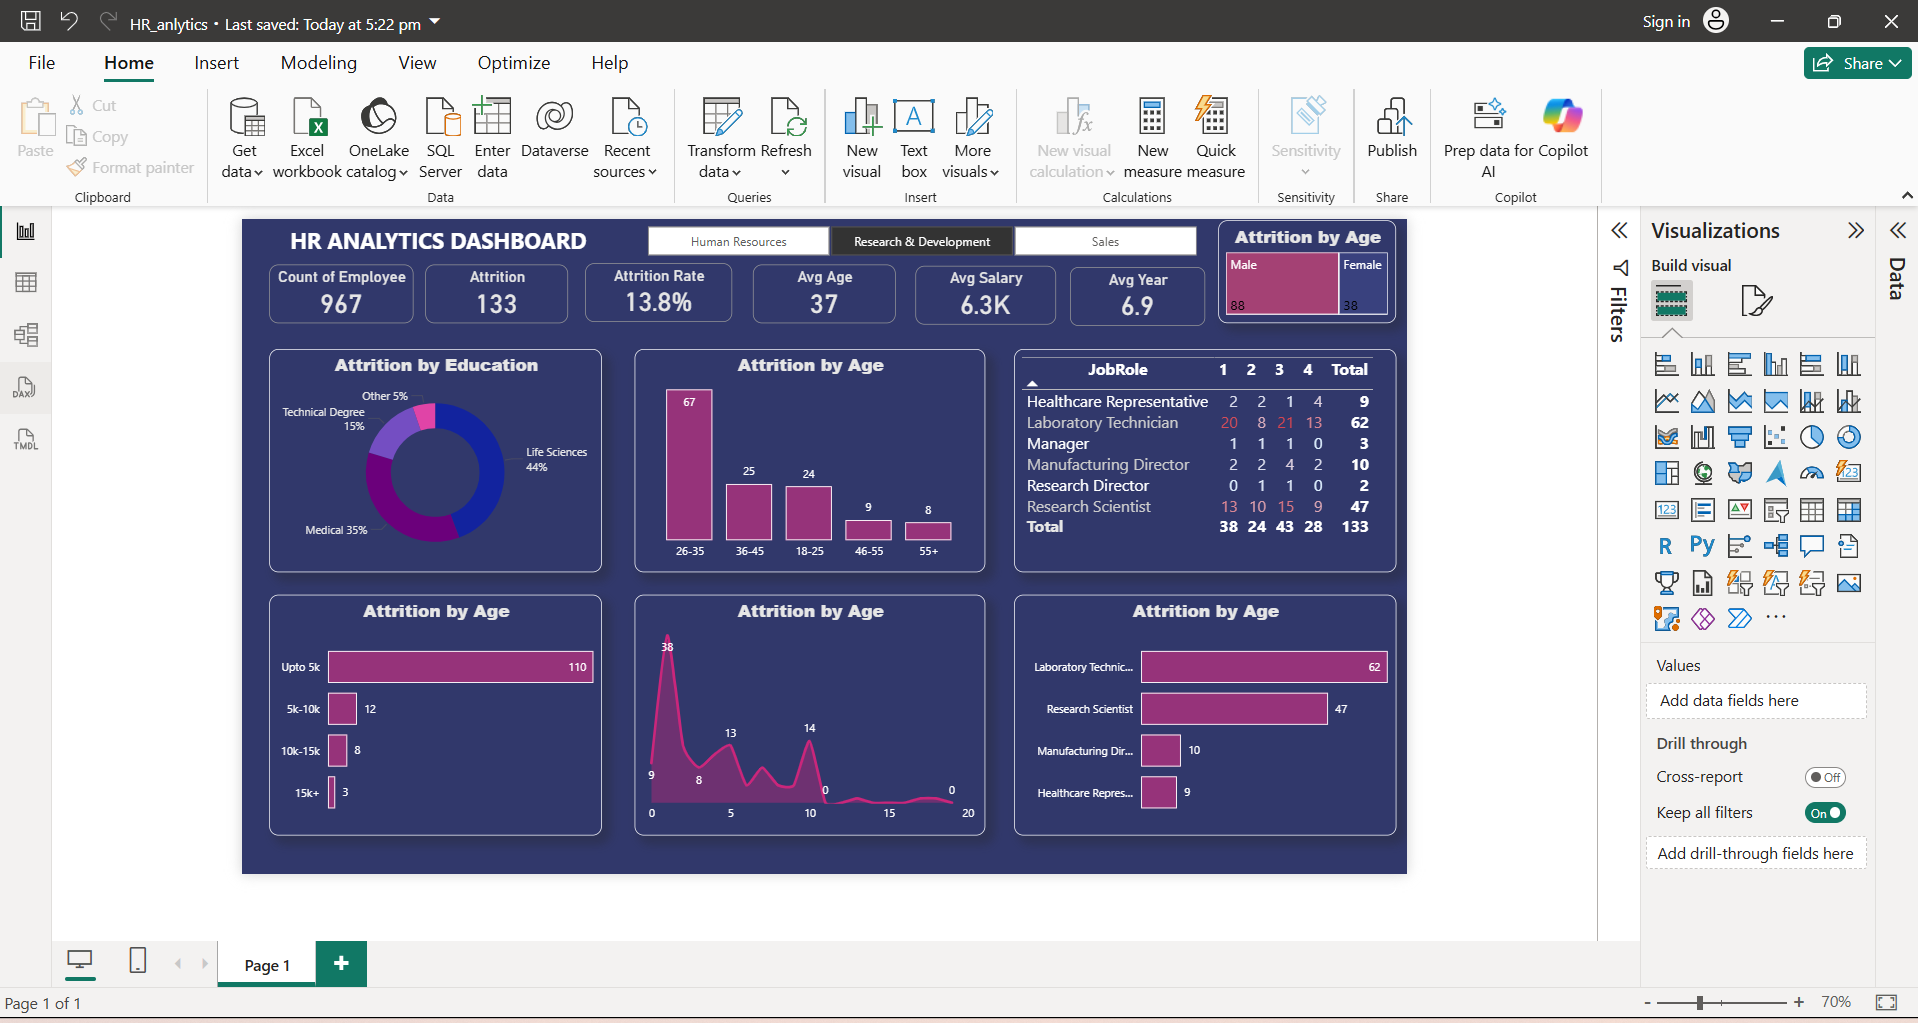

What the dashboard file says about the page in this screenshot:
{"tool":"powerbi","page":{"name":"Page 1","canvas":[1280,720],"ordinal":0},"visuals":[{"type":"card","title":"Count of Employee","fields":{"Values":["CountNonNull(HR_Analytics.EmpID)"]},"box":[30,50,158.6,64.3],"z":0},{"type":"card","title":"Attrition","fields":{"Values":["Sum(HR_Analytics.Attrition_Count)"]},"box":[201.4,50,157.1,64.3],"z":1000},{"type":"card","title":"Attrition Rate","fields":{"Values":["HR_Analytics.AttritionRate"]},"box":[377.1,48.6,161.4,64.3],"z":2000},{"type":"card","title":"Avg Age","fields":{"Values":["Avg(HR_Analytics.Age)"]},"box":[561.4,50,157.1,64.3],"z":3000},{"type":"card","title":"Avg Salary","fields":{"Values":["Avg(HR_Analytics.MonthlyIncome)"]},"box":[740,51.4,154.3,64.3],"z":4000},{"type":"card","title":"Avg Year","fields":{"Values":["Avg(HR_Analytics.YearsAtCompany)"]},"box":[910,52.9,148.6,64.3],"z":5000},{"type":"donutChart","title":"Attrition by Education","fields":{"Category":["HR_Analytics.EducationField"],"Y":["Sum(HR_Analytics.Attrition_Count)"]},"box":[30,142.9,365.7,245.7],"z":6000},{"type":"columnChart","title":"Attrition by Age","fields":{"Category":["HR_Analytics.AgeGroup"],"Y":["Sum(HR_Analytics.Attrition_Count)"]},"box":[431.4,142.9,385.7,245.7],"z":7000},{"type":"pivotTable","fields":{"Rows":["HR_Analytics.JobRole"],"Columns":["HR_Analytics.JobSatisfaction"],"Values":["Sum(HR_Analytics.Attrition_Count)"]},"box":[848.6,142.9,420,245.7],"z":8000},{"type":"clusteredBarChart","title":"Attrition by Age","fields":{"Category":["HR_Analytics.SalarySlab"],"Y":["Sum(HR_Analytics.Attrition_Count)"]},"box":[30,412.9,365.7,264.3],"z":9000},{"type":"clusteredBarChart","title":"Attrition by Age","fields":{"Category":["HR_Analytics.JobRole"],"Y":["Sum(HR_Analytics.Attrition_Count)"]},"box":[848.6,412.9,420,264.3],"z":10000},{"type":"areaChart","title":"Attrition by Age","fields":{"Category":["HR_Analytics.YearsAtCompany"],"Y":["Sum(HR_Analytics.Attrition_Count)"]},"box":[431.4,412.9,385.7,264.3],"z":11000},{"type":"treemap","title":"Attrition by Age","fields":{"Group":["HR_Analytics.Gender"],"Values":["Sum(HR_Analytics.Attrition_Count)"]},"box":[1072.9,1.4,195.7,112.9],"z":12000},{"type":"slicer","fields":{"Values":["HR_Analytics.Department"]},"box":[420,1.4,652.9,45.7],"z":13000},{"type":"textbox","box":[0,1.4,431.4,44.3],"z":14000}]}

Visuals, with their boxes on the page's 1280x720 design canvas (x1, y1, x2, y2). These are canvas units, not pixel positions in the 1918x1023 screenshot, which may show the page scaled, cropped or inside an application window:
"Count of Employee" card: [left=30, top=50, right=189, bottom=114]
"Attrition" card: [left=201, top=50, right=358, bottom=114]
"Attrition Rate" card: [left=377, top=49, right=538, bottom=113]
"Avg Age" card: [left=561, top=50, right=718, bottom=114]
"Avg Salary" card: [left=740, top=51, right=894, bottom=116]
"Avg Year" card: [left=910, top=53, right=1059, bottom=117]
"Attrition by Education" donutChart: [left=30, top=143, right=396, bottom=389]
"Attrition by Age" columnChart: [left=431, top=143, right=817, bottom=389]
pivotTable - HR_Analytics.JobRole x HR_Analytics.JobSatisfaction: [left=849, top=143, right=1269, bottom=389]
"Attrition by Age" clusteredBarChart: [left=30, top=413, right=396, bottom=677]
"Attrition by Age" clusteredBarChart: [left=849, top=413, right=1269, bottom=677]
"Attrition by Age" areaChart: [left=431, top=413, right=817, bottom=677]
"Attrition by Age" treemap: [left=1073, top=1, right=1269, bottom=114]
slicer - HR_Analytics.Department: [left=420, top=1, right=1073, bottom=47]
textbox: [left=0, top=1, right=431, bottom=46]
